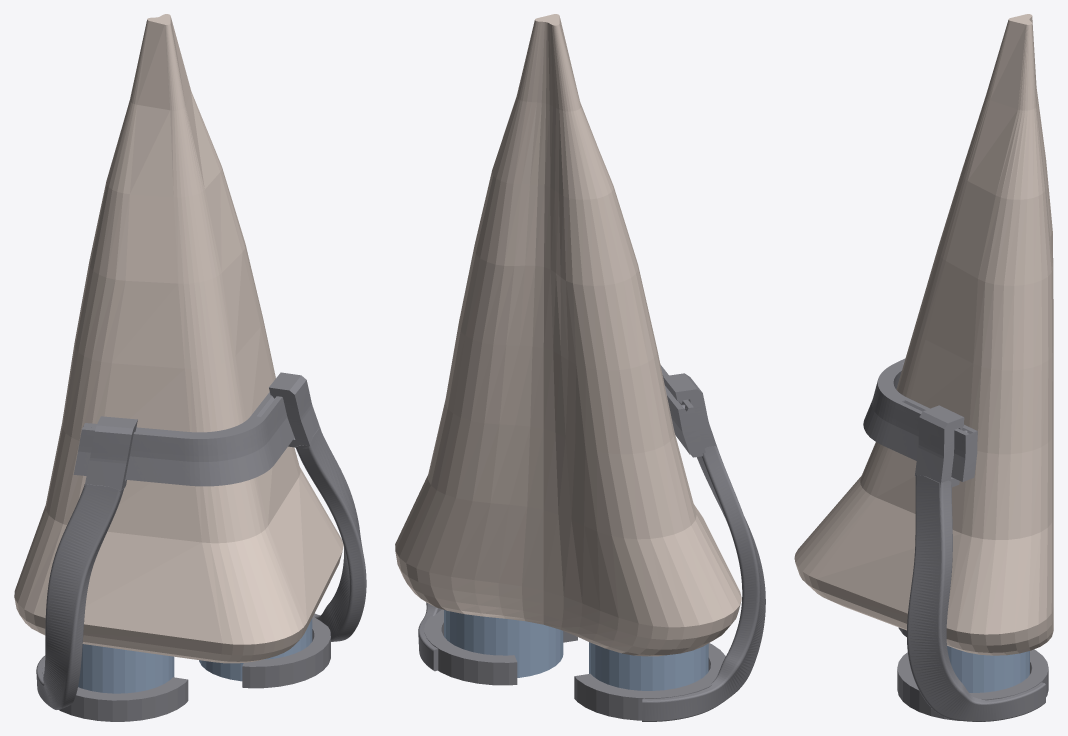
The model's file is candidate_balanced.glb.
3 renders of one model, left to right at view 1: azimuth 30°, elevation 25°; view 2: azimuth 150°, elevation 25°; view 3: azimuth 270°, elevation 25°, orthographic. The views are drawn at different scales.
Visible parts, largest first — view 1: body, frame_leg_left, frame_leg_right, frame_bridge, plug_left, plug_right; view 2: body, frame_leg_left, plug_right, plug_left, frame_leg_right, frame_bridge; view 3: body, frame_leg_right, frame_bridge, plug_right.
Boxes of the visible parts, box(x1,y1,x2,y2) form: body: box(14, 14, 343, 663); frame_leg_left: box(36, 416, 188, 721); frame_leg_right: box(242, 372, 366, 688); frame_bridge: box(73, 392, 294, 486); plug_left: box(78, 644, 174, 693); plug_right: box(199, 618, 312, 681); body: box(395, 14, 741, 656); frame_leg_left: box(574, 373, 765, 721); plug_right: box(444, 610, 563, 677); plug_left: box(589, 642, 708, 690); frame_leg_right: box(418, 602, 577, 685); frame_bridge: box(660, 364, 705, 454); body: box(794, 14, 1053, 655); frame_leg_right: box(897, 405, 1048, 721); frame_bridge: box(863, 358, 977, 481); plug_right: box(947, 645, 1029, 692).
Size of the model in its own units: 31.96 by 61.8 by 22.75.
